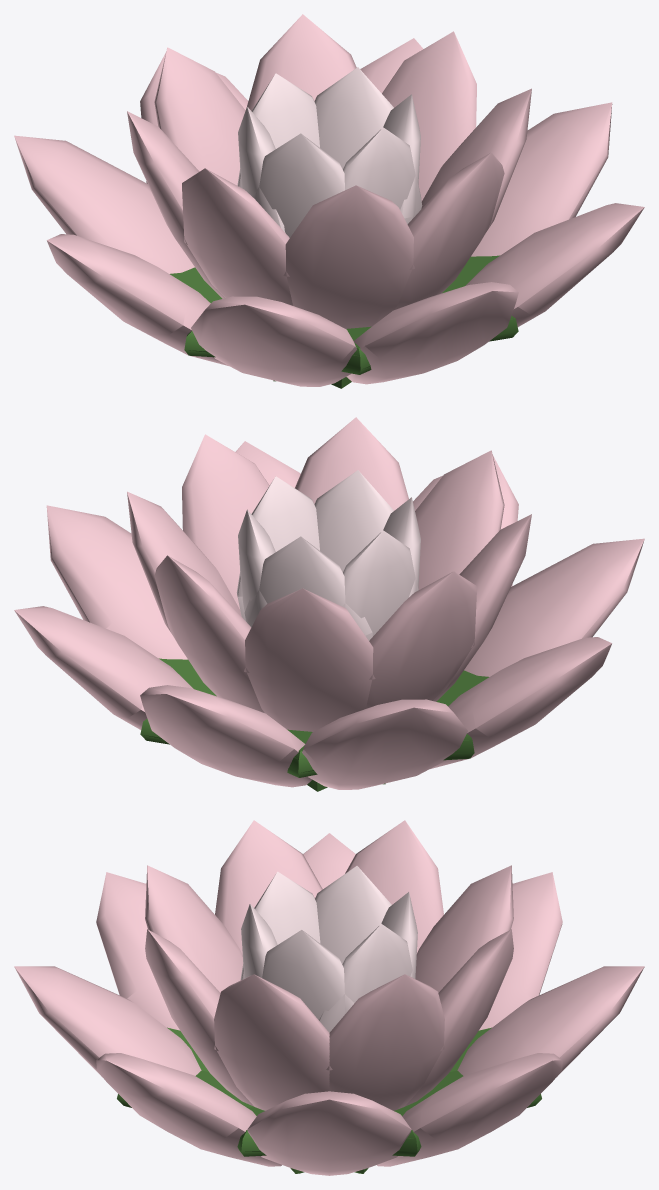
The model's file is temple-lotus.glb.
3 views of the same model, one above another, from view 1: azimuth 30°, elevation 25°; view 2: azimuth 150°, elevation 25°; view 3: azimuth 270°, elevation 25° (orthographic). The views are drawn at different scales.
Parts seen in each view (by area): view 1: petal4_8, petal2_6, petal2_3, petal2_8, petal4_7, petal2_1, petal2_7, petal2_2, petal4_1, petal4_3, petal4_5, petalInner6_6 (+13 smaller); view 2: petal4_5, petal2_8, petal2_3, petal2_6, petal4_6, petal2_5, petal2_7, petal2_4, petal4_4, petal4_8, petal4_2, petal4_1 (+13 smaller); view 3: petal4_3, petal4_2, petal2_3, petal2_1, petal2_5, petal2_4, petal2_2, petal4_5, petal4_8, petal2_6, petal2_8, petal4_1 (+10 smaller).
Boxes of the visible parts, x1,y1,x2,y2 form: petal4_8: (283,185,414,328); petal2_6: (14,135,194,273); petal2_3: (471,102,612,256); petal2_8: (191,296,356,386); petal4_7: (182,168,292,305); petal2_1: (346,282,518,384); petal2_7: (47,234,228,365); petal2_2: (465,203,644,326); petal4_1: (394,152,504,309); petal4_3: (382,31,476,201); petal4_5: (154,47,245,185); petalInner6_6: (252,133,344,237); petal4_5: (244,588,375,731); petal2_8: (464,538,644,676); petal2_3: (46,505,187,659); petal2_6: (302,699,467,789); petal4_6: (366,571,476,708); petal2_5: (140,685,312,787); petal2_7: (430,637,611,768); petal2_4: (14,606,193,729); petal4_4: (154,555,264,712); petal4_8: (415,450,504,589); petal4_2: (182,434,269,608); petal4_1: (295,417,408,510); petal4_3: (326,974,444,1110); petal4_2: (214,974,332,1110); petal2_3: (247,1091,411,1175); petal2_1: (14,966,201,1076); petal2_5: (457,966,644,1076); petal2_4: (377,1053,562,1166); petal2_2: (96,1053,281,1166); petal4_5: (415,865,513,992); petal4_8: (145,865,243,992); petal2_6: (479,872,562,1030); petal2_8: (96,872,179,1030); petal4_1: (145,929,254,1106).
Bounding box in the file's own units: 0.3837 × 0.165 × 0.3837.
